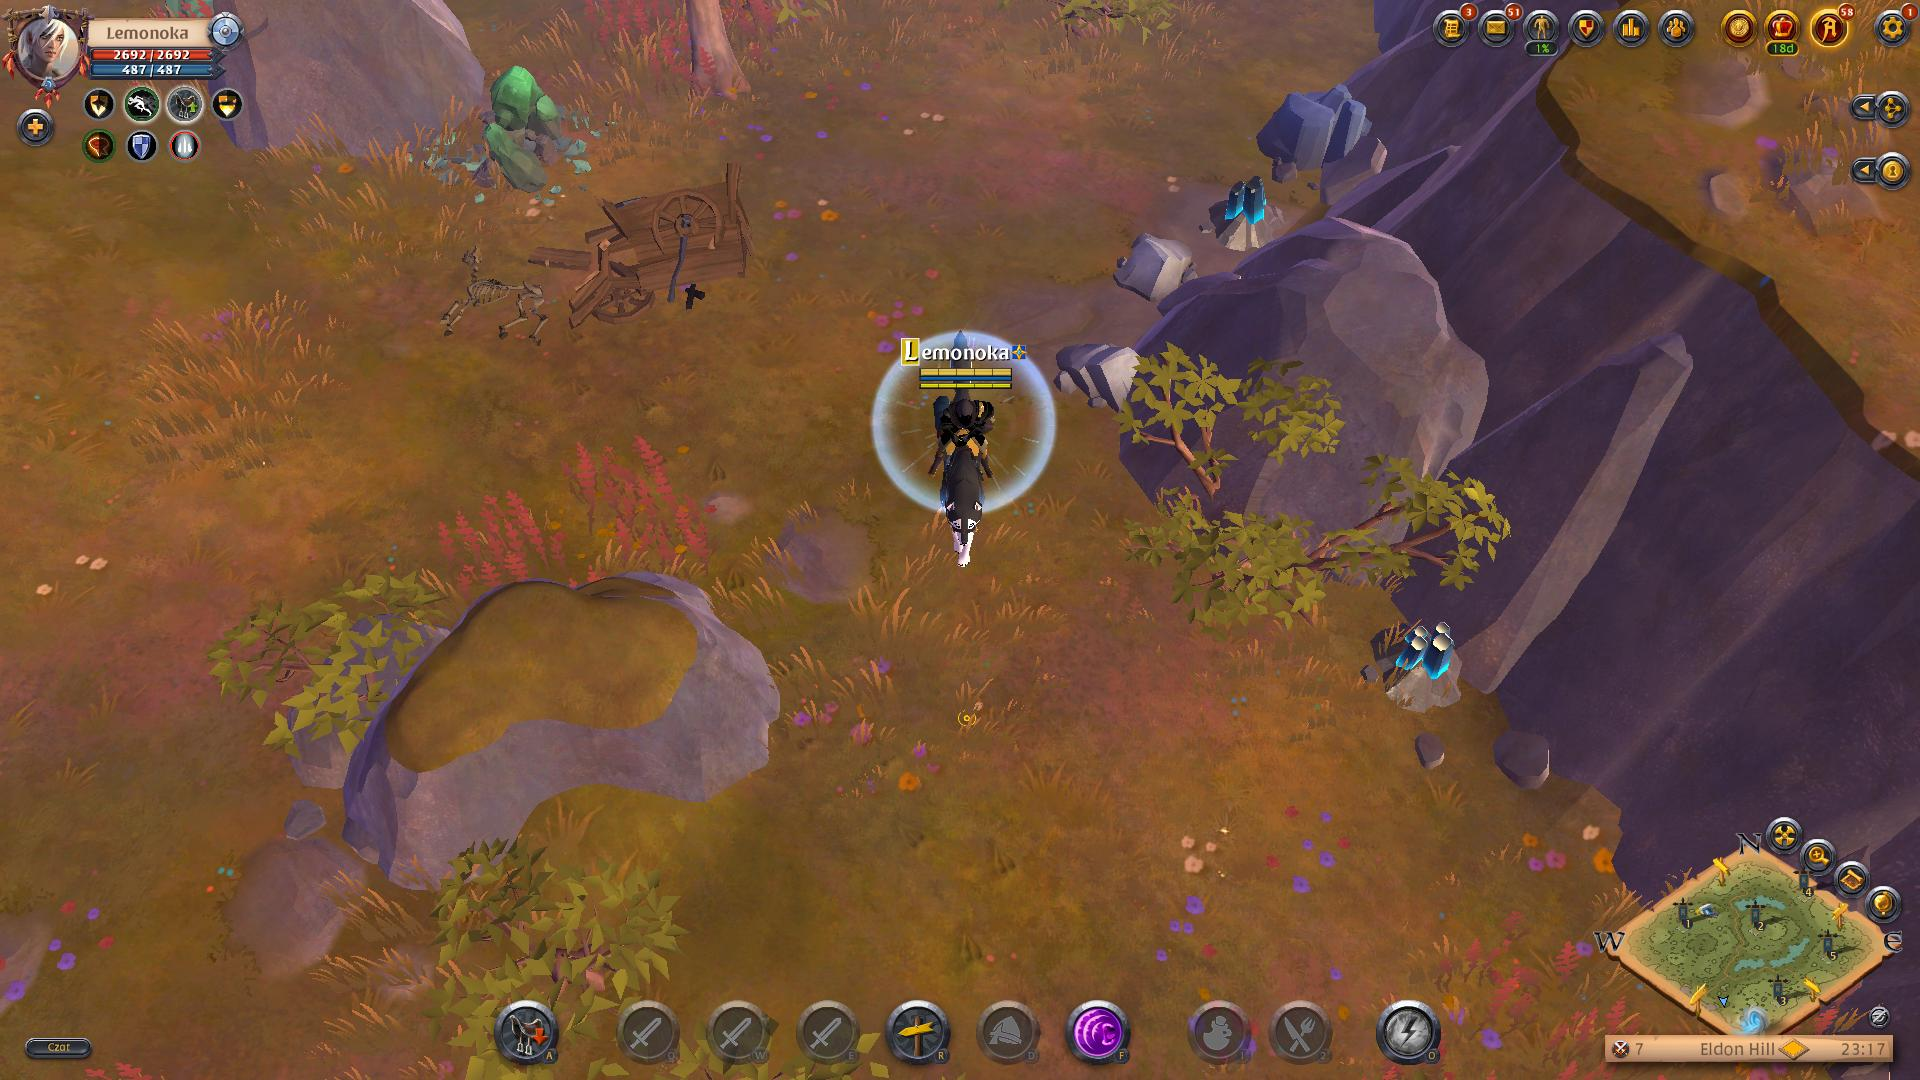ore tier 4: (1371, 613, 1466, 719), (1200, 173, 1294, 253)
rock tier 1: (1054, 336, 1150, 417), (1108, 229, 1201, 309)
rock tier 4: (1258, 82, 1378, 182)
